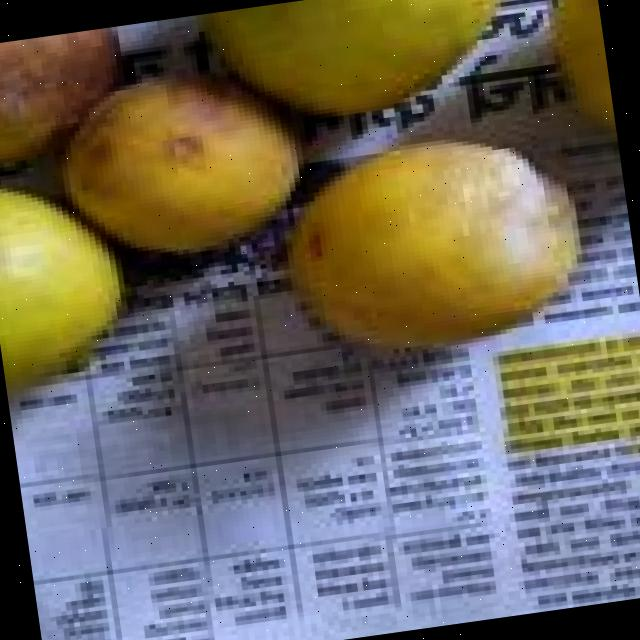Bad_Lime-0-1-day: (0, 25, 309, 251), (286, 134, 587, 350)
Good_Lime-10-21-days: (208, 0, 505, 133), (0, 183, 133, 391)
